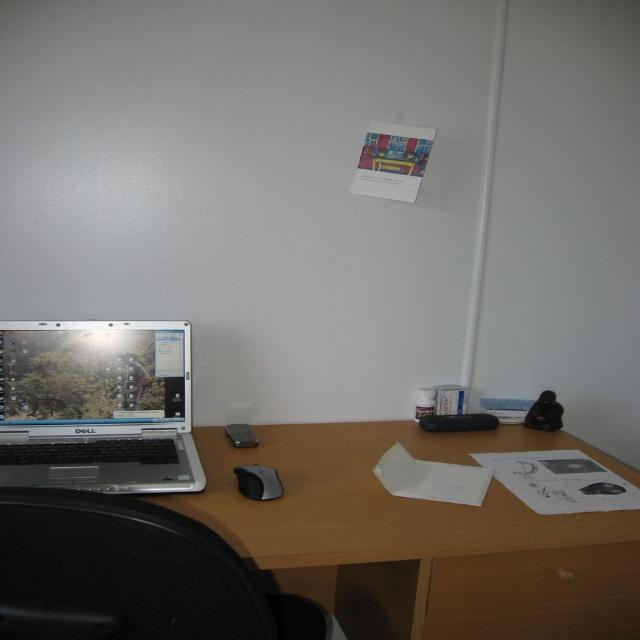chair: (1, 488, 342, 638)
desk: (120, 423, 640, 639)
laptop: (0, 318, 207, 494)
mouse: (233, 464, 285, 501)
